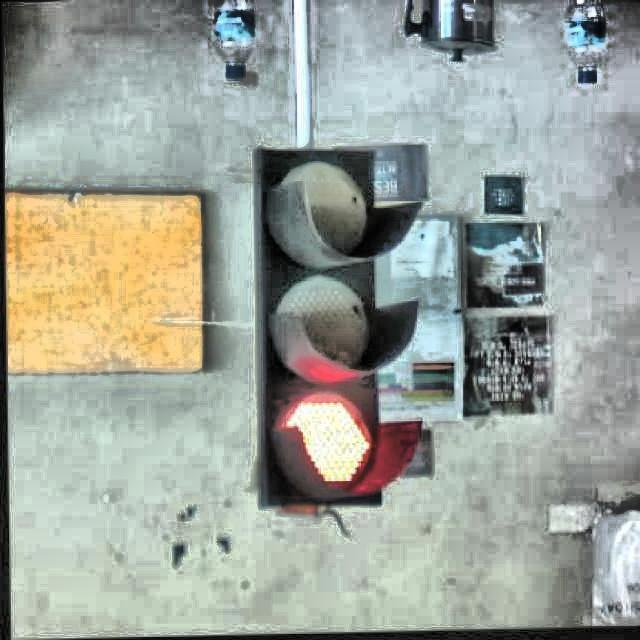red: (254, 153, 414, 502)
